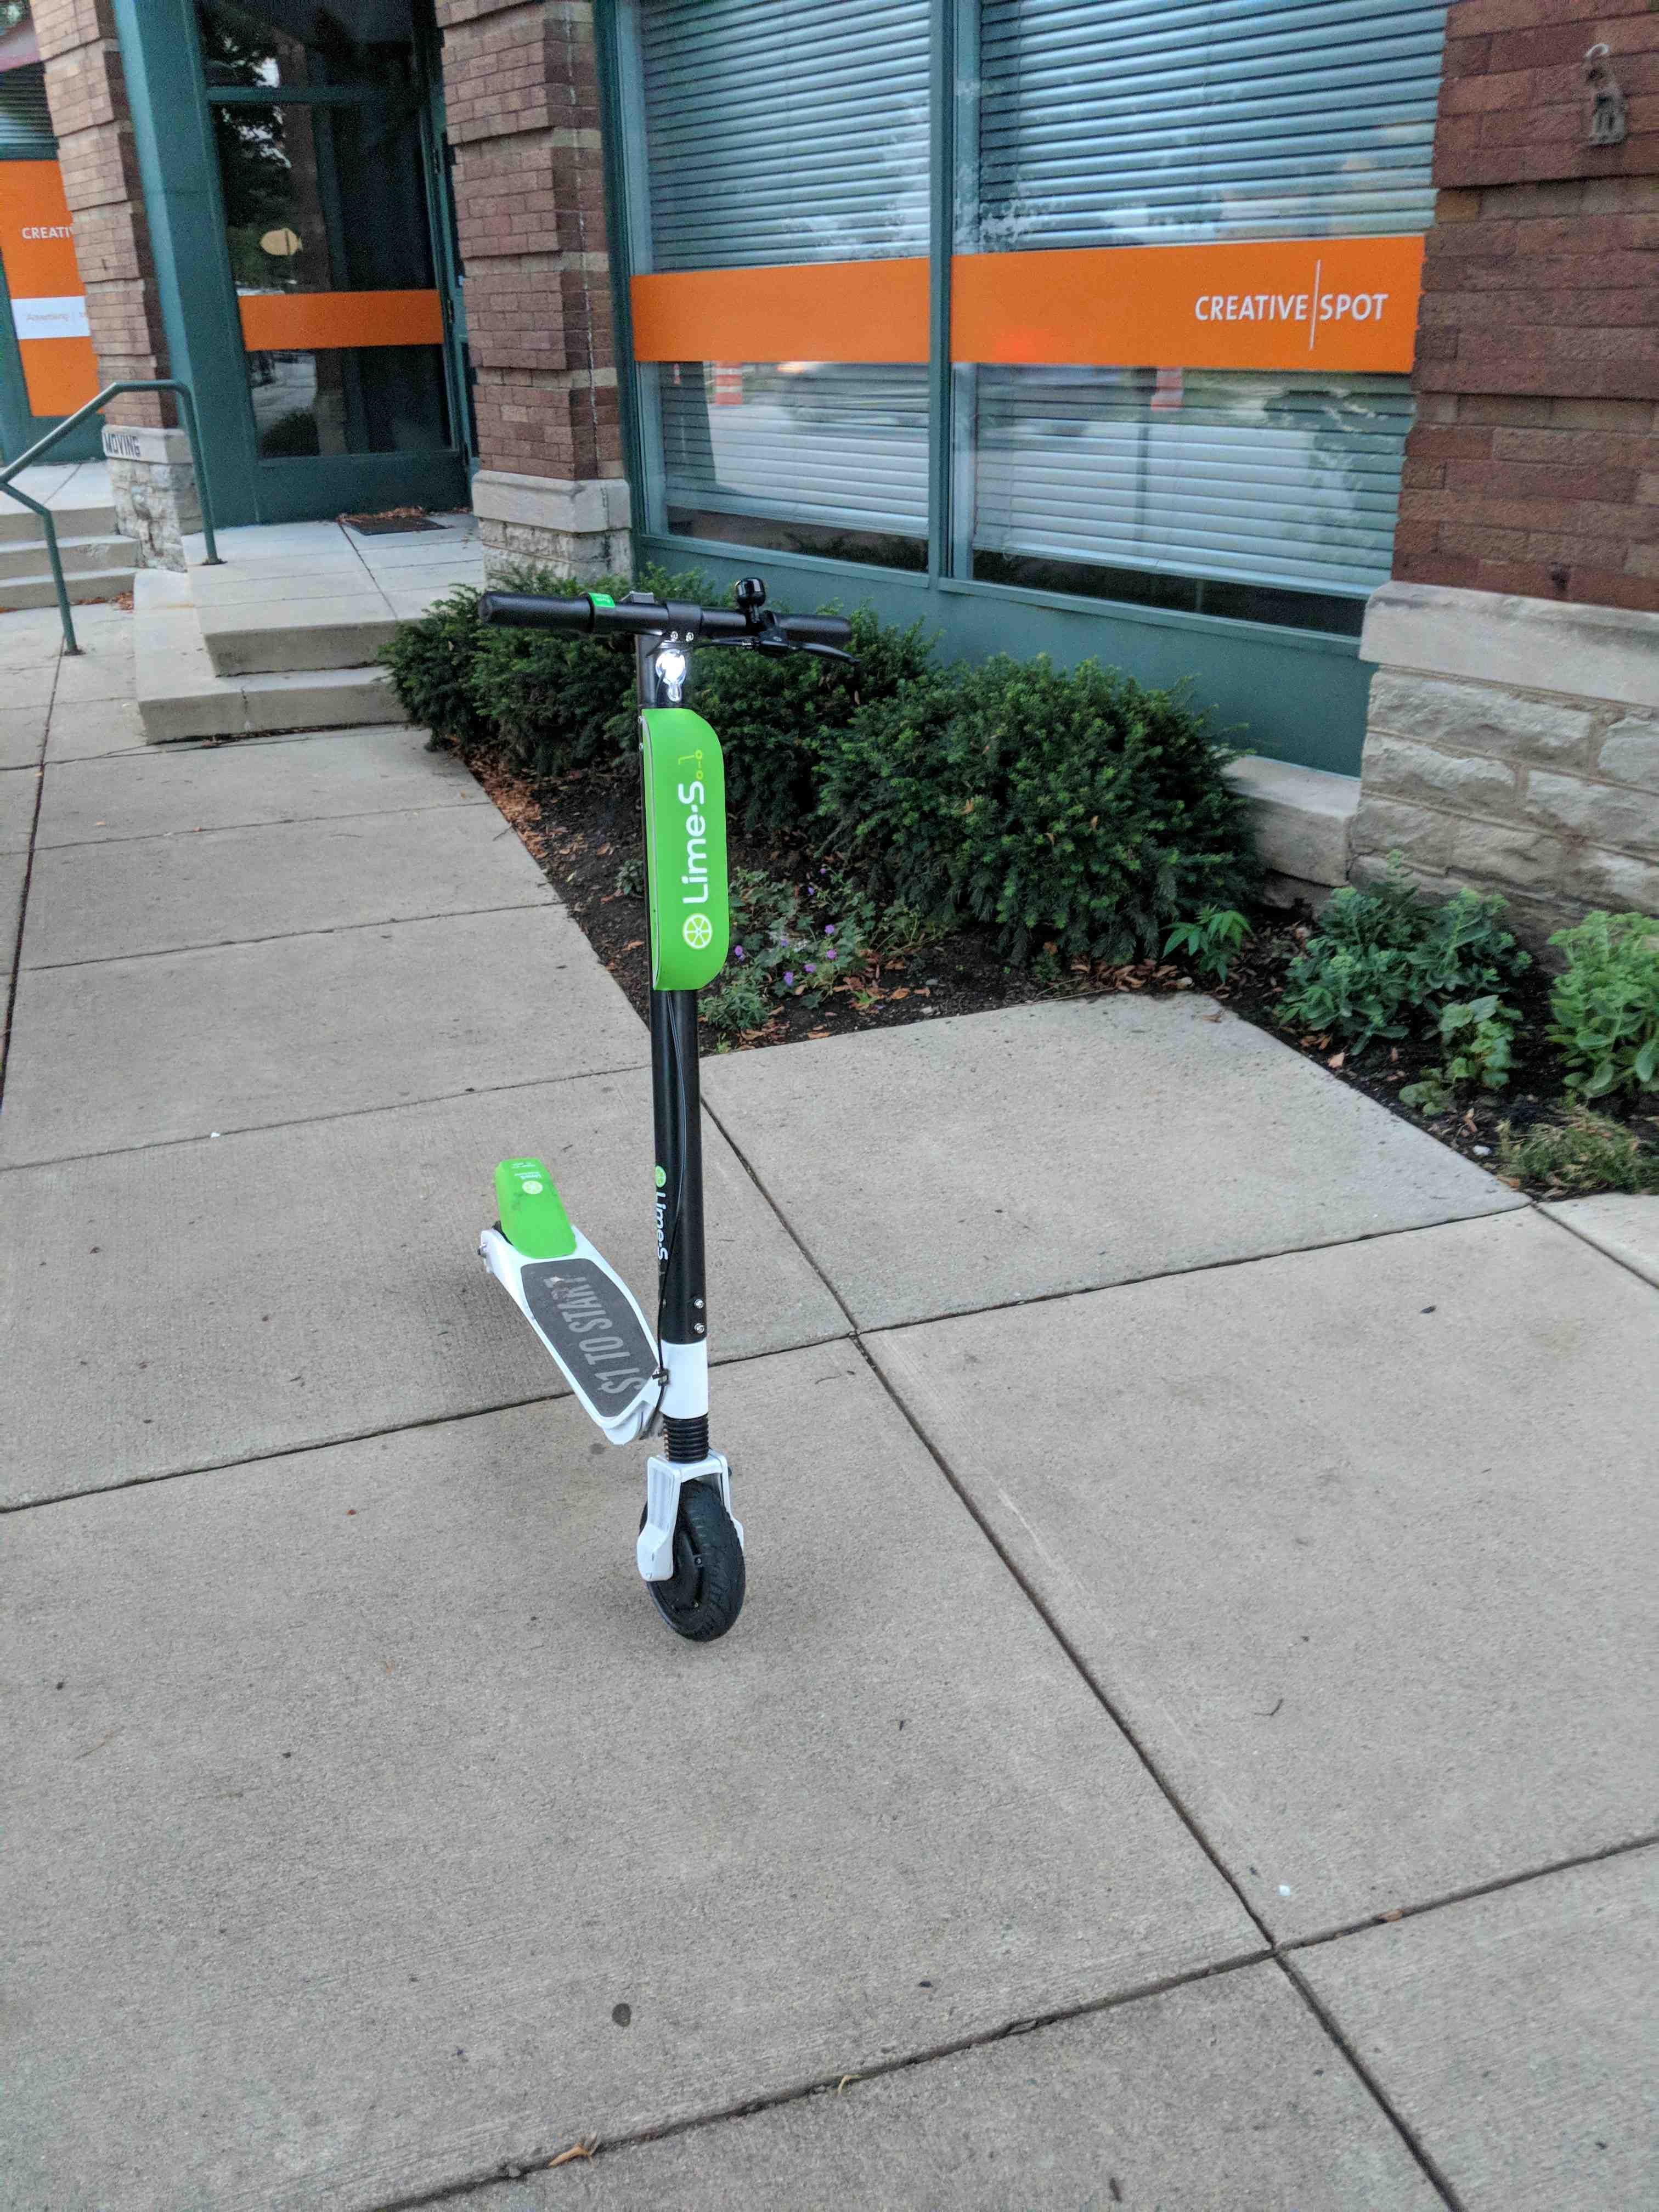scooter: (425, 556, 852, 1663)
